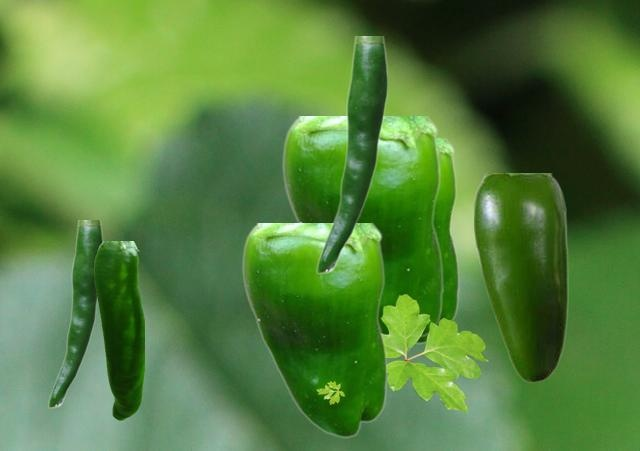green_chili: (281, 116, 442, 352), (241, 223, 386, 437), (474, 173, 567, 382), (315, 36, 386, 273), (47, 220, 102, 407), (94, 241, 143, 419), (416, 138, 458, 343)
